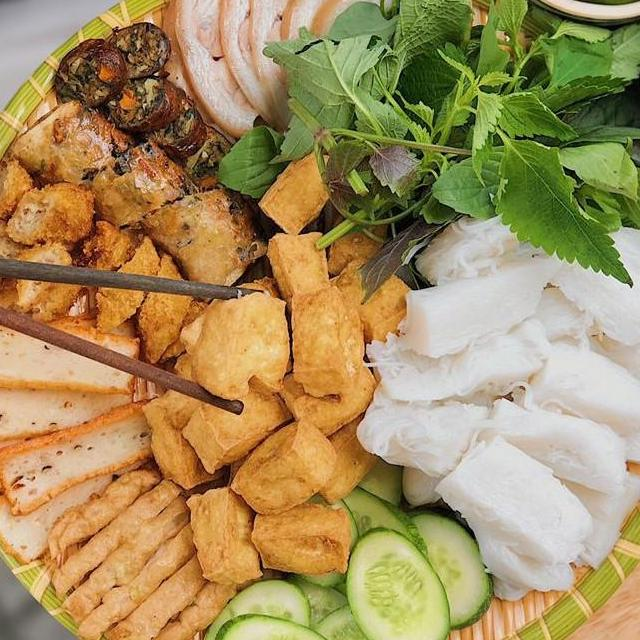bun: (347, 191, 640, 617)
bun dau: (0, 0, 640, 640)
cha com: (35, 458, 252, 640), (37, 17, 238, 184)
cha gio: (128, 184, 271, 302), (72, 132, 201, 236), (4, 93, 136, 194)
dau hu: (135, 199, 428, 605), (248, 132, 353, 235)
thit heo: (150, 0, 414, 156)
